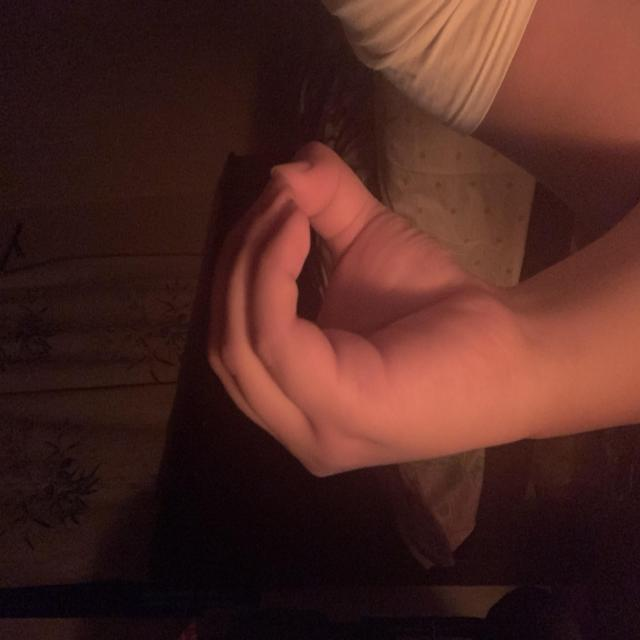O: (138, 208, 482, 518)
